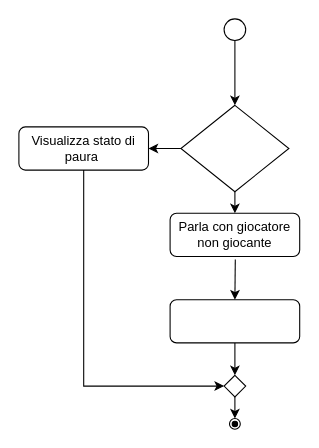
Image size: 319x448. Some labels were removed from this diagram. The centre of each missing label's shape, as x and y in pixels:
Calma e rassicura giocatore non giocante: the point at 234,321
Selezione Interazione giocatore non giocante: the point at 234,148
